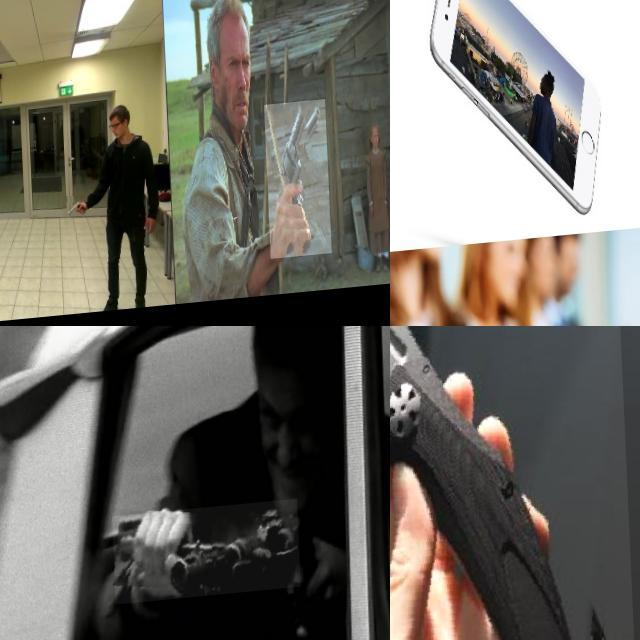-: (390, 326, 631, 640)
gun-knife-thesis - v11 Yolov5 augmented: (108, 506, 296, 608), (260, 109, 326, 268), (57, 200, 82, 222), (349, 0, 373, 11), (0, 0, 10, 11)
